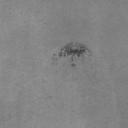iron sheet ash: (58, 42, 90, 61), (71, 63, 76, 67)
